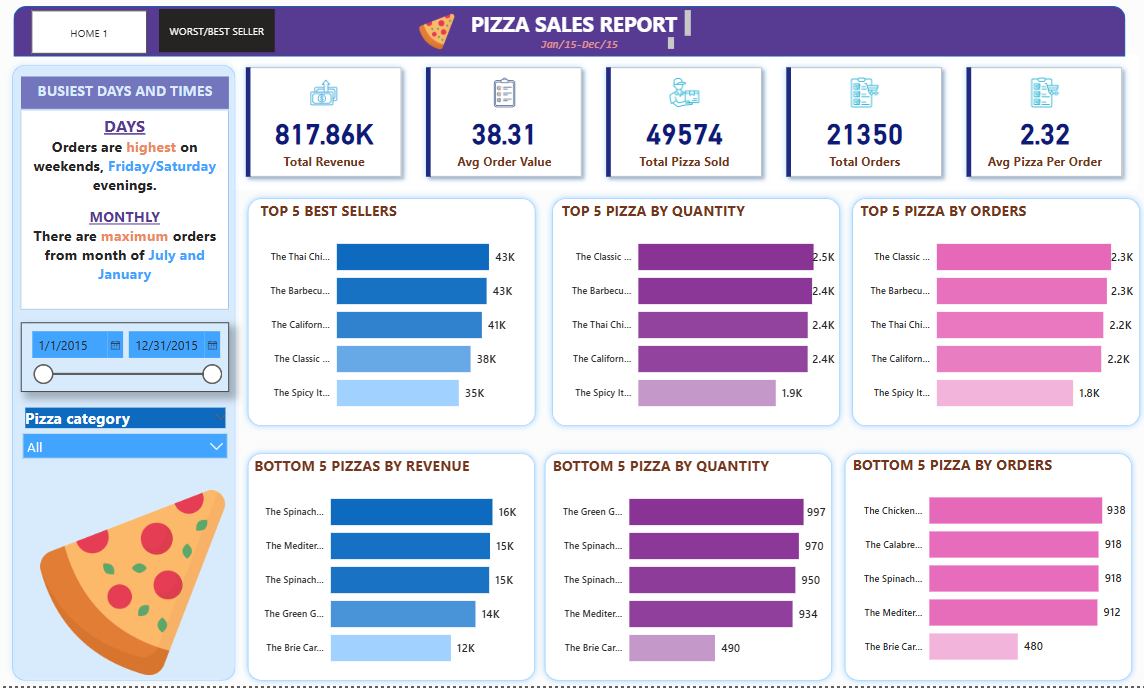

The dashboard page shown, as its layout file describes it:
{"tool":"powerbi","page":{"name":"WORST/BEST SELLER","canvas":[1500,900],"ordinal":1},"visuals":[{"type":"cardVisual","fields":{"Data":["pizza_sales.Total Revenue","pizza_sales.Avg Order Value","pizza_sales.Total Pizza Sold","pizza_sales.Total Orders","pizza_sales.Avg Pizza Per Order"]},"box":[310,78,1176,176],"z":0},{"type":"textbox","box":[36,108,270,42],"z":1000},{"type":"shape","box":[25.7,15.7,1444.3,65.7],"z":2000},{"type":"textbox","box":[614.1,16,296.4,44.4],"z":3000},{"type":"textbox","box":[704.6,51.5,182.8,31.9],"z":4000},{"type":"image","box":[536,19.5,78.1,58.6],"z":5000},{"type":"shape","box":[321.4,588.3,389.6,311.7],"z":10000},{"type":"shape","box":[707.1,588.3,389.6,311.7],"z":11000},{"type":"shape","box":[1096.8,588.3,389.6,311.7],"z":12000},{"type":"shape","box":[16,84,306,816],"z":15000},{"type":"textbox","box":[36,150,270,260],"z":17000},{"type":"image","box":[48,632,262,266],"z":18000},{"type":"slicer","fields":{"Values":["pizza_sales.pizza_category"]},"box":[28,532,286,74],"z":19000},{"type":"slicer","fields":{"Values":["pizza_sales.order_date"]},"box":[36,426,270,90],"z":20000},{"type":"shape","box":[716,258,390,312],"z":20001},{"type":"shape","box":[322,258,390,312],"z":20002},{"type":"shape","box":[1106,258,390,312],"z":20003},{"type":"barChart","title":"TOP 5 BEST SELLERS","fields":{"Category":["pizza_sales.pizza_name"],"Y":["pizza_sales.Total Revenue"]},"box":[340,268,364,290],"z":20004},{"type":"barChart","title":"BOTTOM 5 PIZZAS BY REVENUE","fields":{"Category":["pizza_sales.pizza_name"],"Y":["pizza_sales.Total Revenue"]},"box":[334,600,364,290],"z":20005},{"type":"barChart","title":"TOP 5 PIZZA BY QUANTITY","fields":{"Category":["pizza_sales.pizza_name"],"Y":["pizza_sales.Total Pizza Sold"]},"box":[732,268,364,290],"z":20006},{"type":"barChart","title":"BOTTOM 5 PIZZA BY QUANTITY","fields":{"Category":["pizza_sales.pizza_name"],"Y":["pizza_sales.Total Pizza Sold"]},"box":[720,600,364,290],"z":20007},{"type":"barChart","title":"TOP 5 PIZZA BY ORDERS","fields":{"Category":["pizza_sales.pizza_name"],"Y":["pizza_sales.Total Orders"]},"box":[1120,268,364,290],"z":20008},{"type":"barChart","title":"BOTTOM 5 PIZZA BY ORDERS","fields":{"Category":["pizza_sales.pizza_name"],"Y":["pizza_sales.Total Orders"]},"box":[1110,598,364,290],"z":20009},{"type":"pageNavigator","box":[48,22,150,56],"z":20010},{"type":"pageNavigator","box":[214,20,150,56],"z":20011}]}

Visuals, with their boxes in screenshot pixels (x1, y1, x2, y2), scaled from the page's 1500x900 canvas onto the 1144x688 screenshot:
cardVisual - pizza_sales.Total Revenue x pizza_sales.Avg Order Value: bbox=[236, 60, 1133, 194]
textbox: bbox=[27, 83, 233, 115]
shape: bbox=[20, 12, 1121, 62]
textbox: bbox=[468, 12, 694, 46]
textbox: bbox=[537, 39, 677, 64]
image: bbox=[409, 15, 468, 60]
shape: bbox=[245, 450, 542, 687]
shape: bbox=[539, 450, 836, 687]
shape: bbox=[836, 450, 1134, 687]
shape: bbox=[12, 64, 246, 687]
textbox: bbox=[27, 115, 233, 313]
image: bbox=[37, 483, 236, 686]
slicer - pizza_sales.pizza_category: bbox=[21, 407, 239, 463]
slicer - pizza_sales.order_date: bbox=[27, 326, 233, 394]
shape: bbox=[546, 197, 844, 436]
shape: bbox=[246, 197, 543, 436]
shape: bbox=[844, 197, 1141, 436]
"TOP 5 BEST SELLERS" barChart: bbox=[259, 205, 537, 427]
"BOTTOM 5 PIZZAS BY REVENUE" barChart: bbox=[255, 459, 532, 680]
"TOP 5 PIZZA BY QUANTITY" barChart: bbox=[558, 205, 836, 427]
"BOTTOM 5 PIZZA BY QUANTITY" barChart: bbox=[549, 459, 827, 680]
"TOP 5 PIZZA BY ORDERS" barChart: bbox=[854, 205, 1132, 427]
"BOTTOM 5 PIZZA BY ORDERS" barChart: bbox=[847, 457, 1124, 679]
pageNavigator: bbox=[37, 17, 151, 60]
pageNavigator: bbox=[163, 15, 278, 58]
